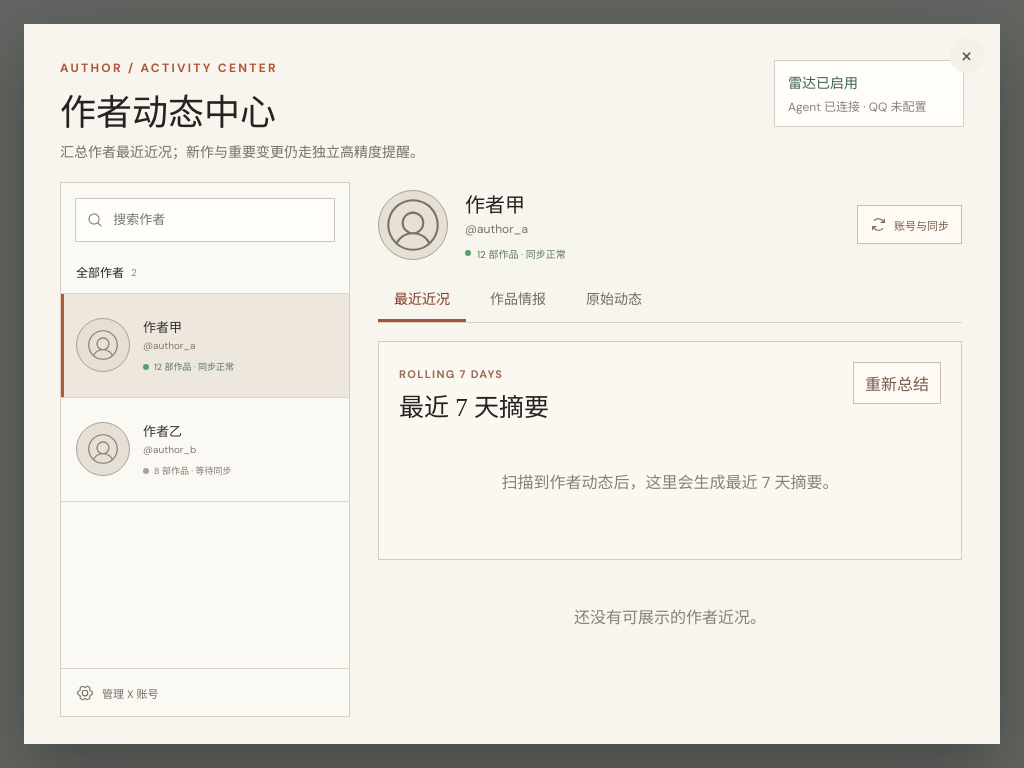
Test: SocialRadar author rail › switches authors inside the radar and remembers the radar-only choice
This screenshot has width=1024, height=768.
Expected: the heading "作者甲" is shown, [465, 192, 525, 218]
Click the button "作者乙 @author_b 8 部作品 · 等待同步". click: (103, 449)
box: [61, 398, 349, 502]
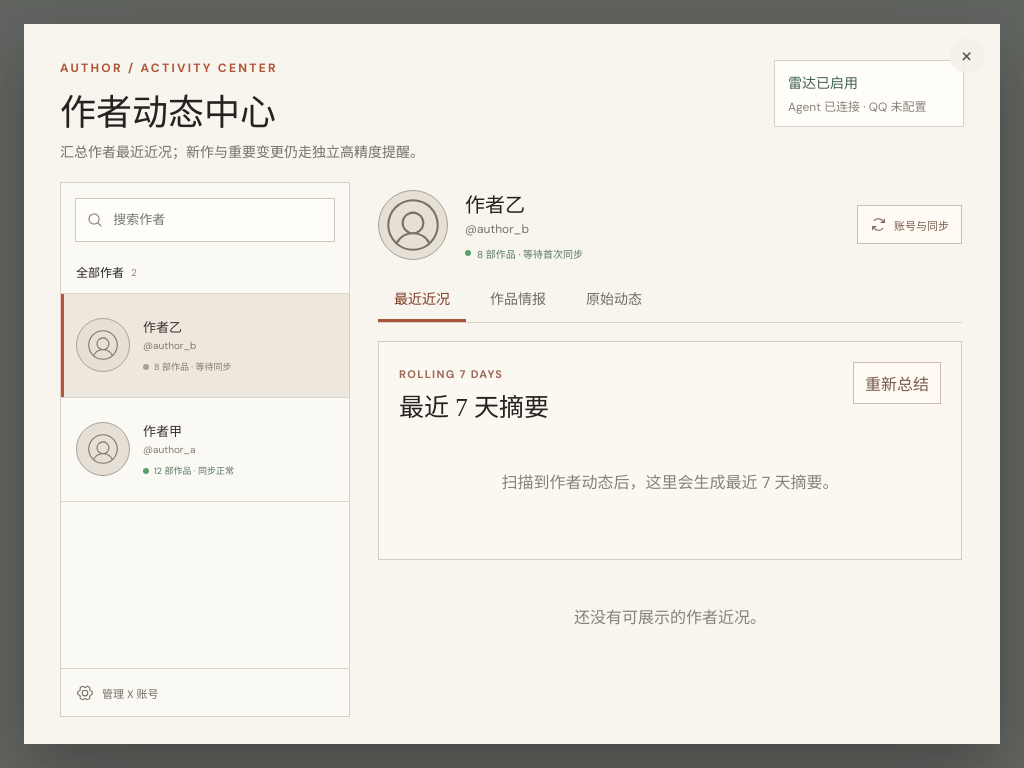
Now the heading "作者乙" is shown, box [465, 192, 525, 218]
Click the button "账号与同步". click: (910, 225)
box: [857, 205, 962, 244]
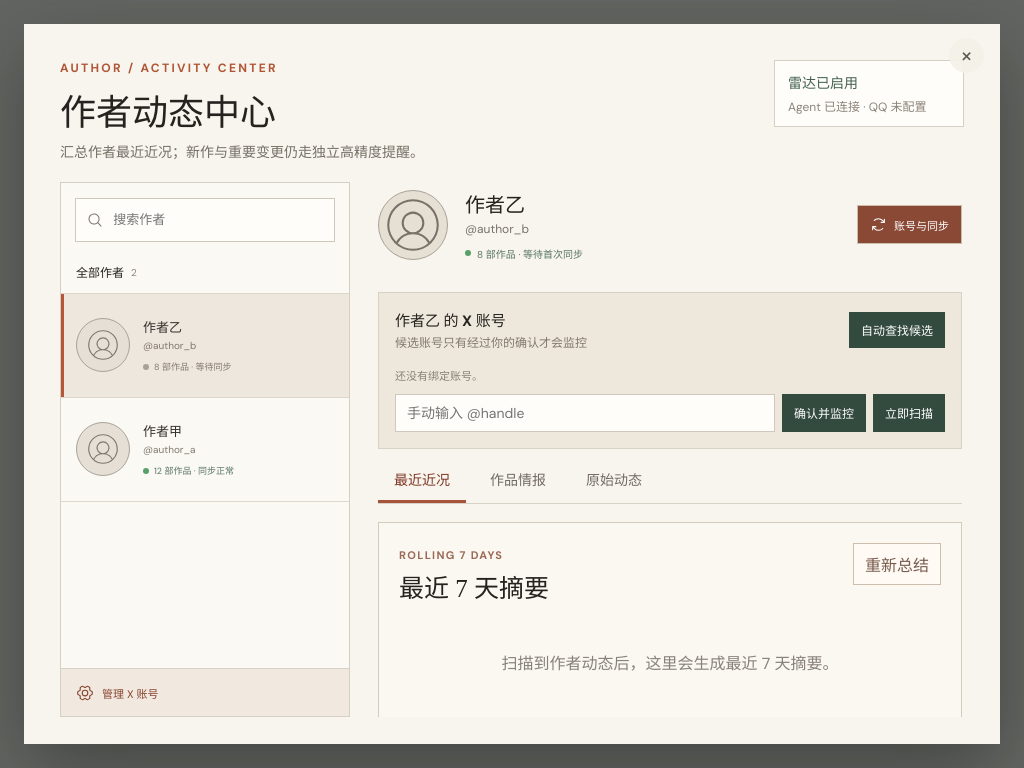
Now the text "作者乙 的 X 账号" is shown, box [395, 311, 506, 331]
